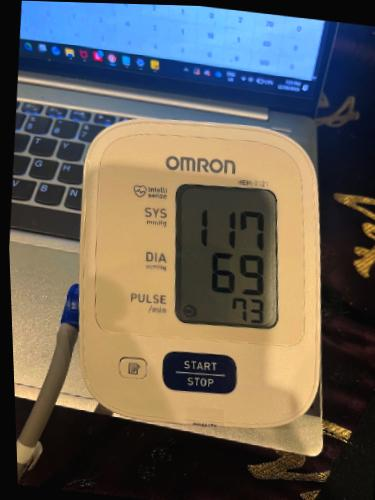bpm: (172, 183, 281, 330)
